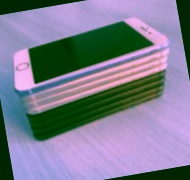iphone: (14, 25, 174, 84)
